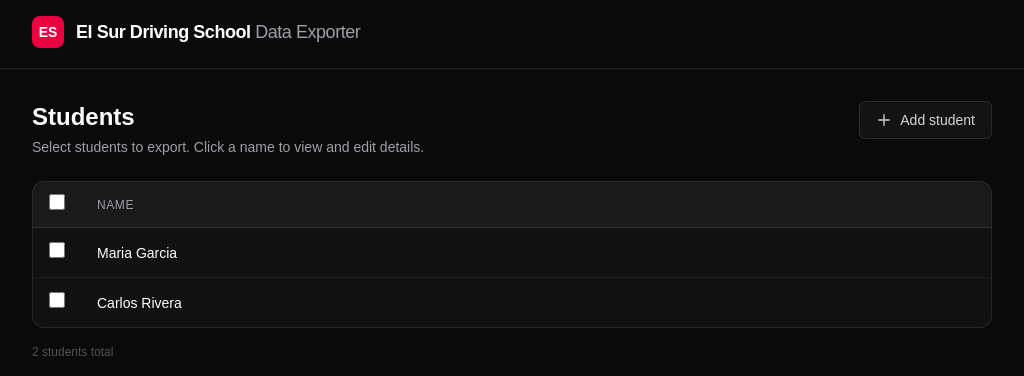
Table display › selects a row via checkbox and updates the footer count
expect the text "Maria Garcia" is shown: met, box [81,228,991,278]
Click the checkbox named "Select Maria Garcia".
click(57, 250)  # box [49,242,65,258]
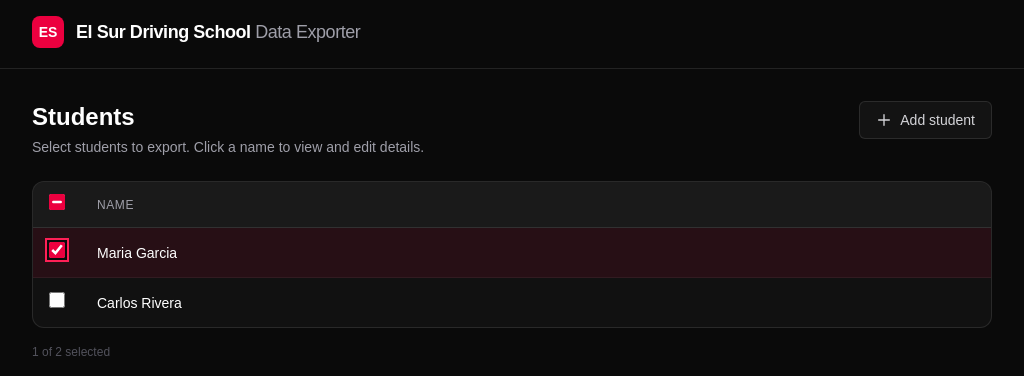
expect the text "1 of 2 selected" is shown: met, box [32,345,110,359]
